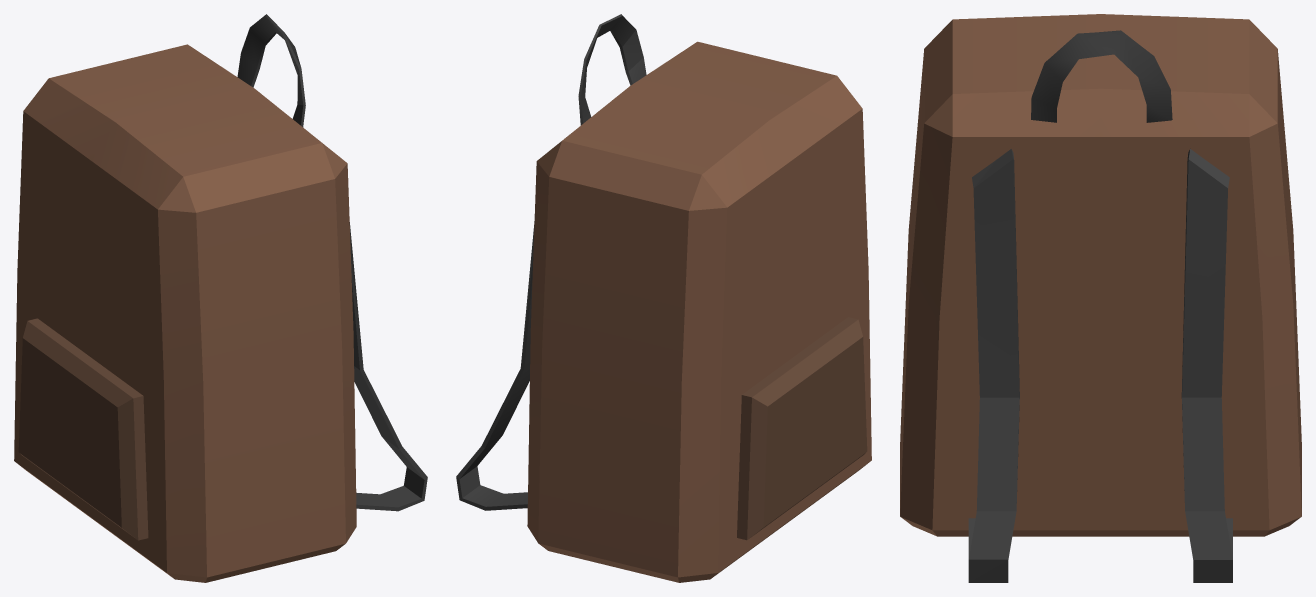
The model's file is Sac_A_Dos_Marron.fbx.
3 views of the same model, side by side, from view 1: azimuth 30°, elevation 25°; view 2: azimuth 150°, elevation 25°; view 3: azimuth 270°, elevation 25° (orthographic). The views are drawn at different scales.
Visible parts, largest first — view 1: Sac_A_Dos_Marroné; view 2: Sac_A_Dos_Marroné; view 3: Sac_A_Dos_Marroné.
Part boxes in pixels (<box>): Sac_A_Dos_Marroné: <box>14,14,427,582</box>; Sac_A_Dos_Marroné: <box>456,14,871,582</box>; Sac_A_Dos_Marroné: <box>900,14,1301,582</box>.
Bounding box in the file's own units: 31.79 × 47.12 × 33.7.
1 material, 1 textured.
